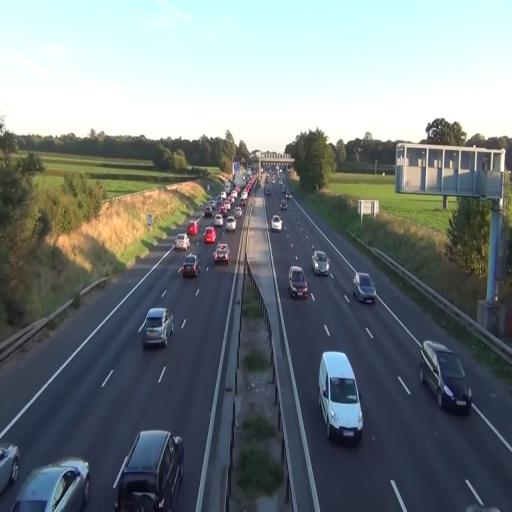vehicle: (113, 429, 184, 512), (318, 350, 364, 446), (10, 458, 90, 512), (418, 339, 472, 415), (141, 307, 173, 348), (0, 440, 20, 494), (352, 272, 376, 306), (288, 264, 309, 300), (180, 254, 199, 279), (312, 251, 330, 275), (214, 242, 230, 266), (174, 231, 189, 252), (203, 228, 217, 246), (271, 214, 283, 233), (225, 214, 236, 233)
